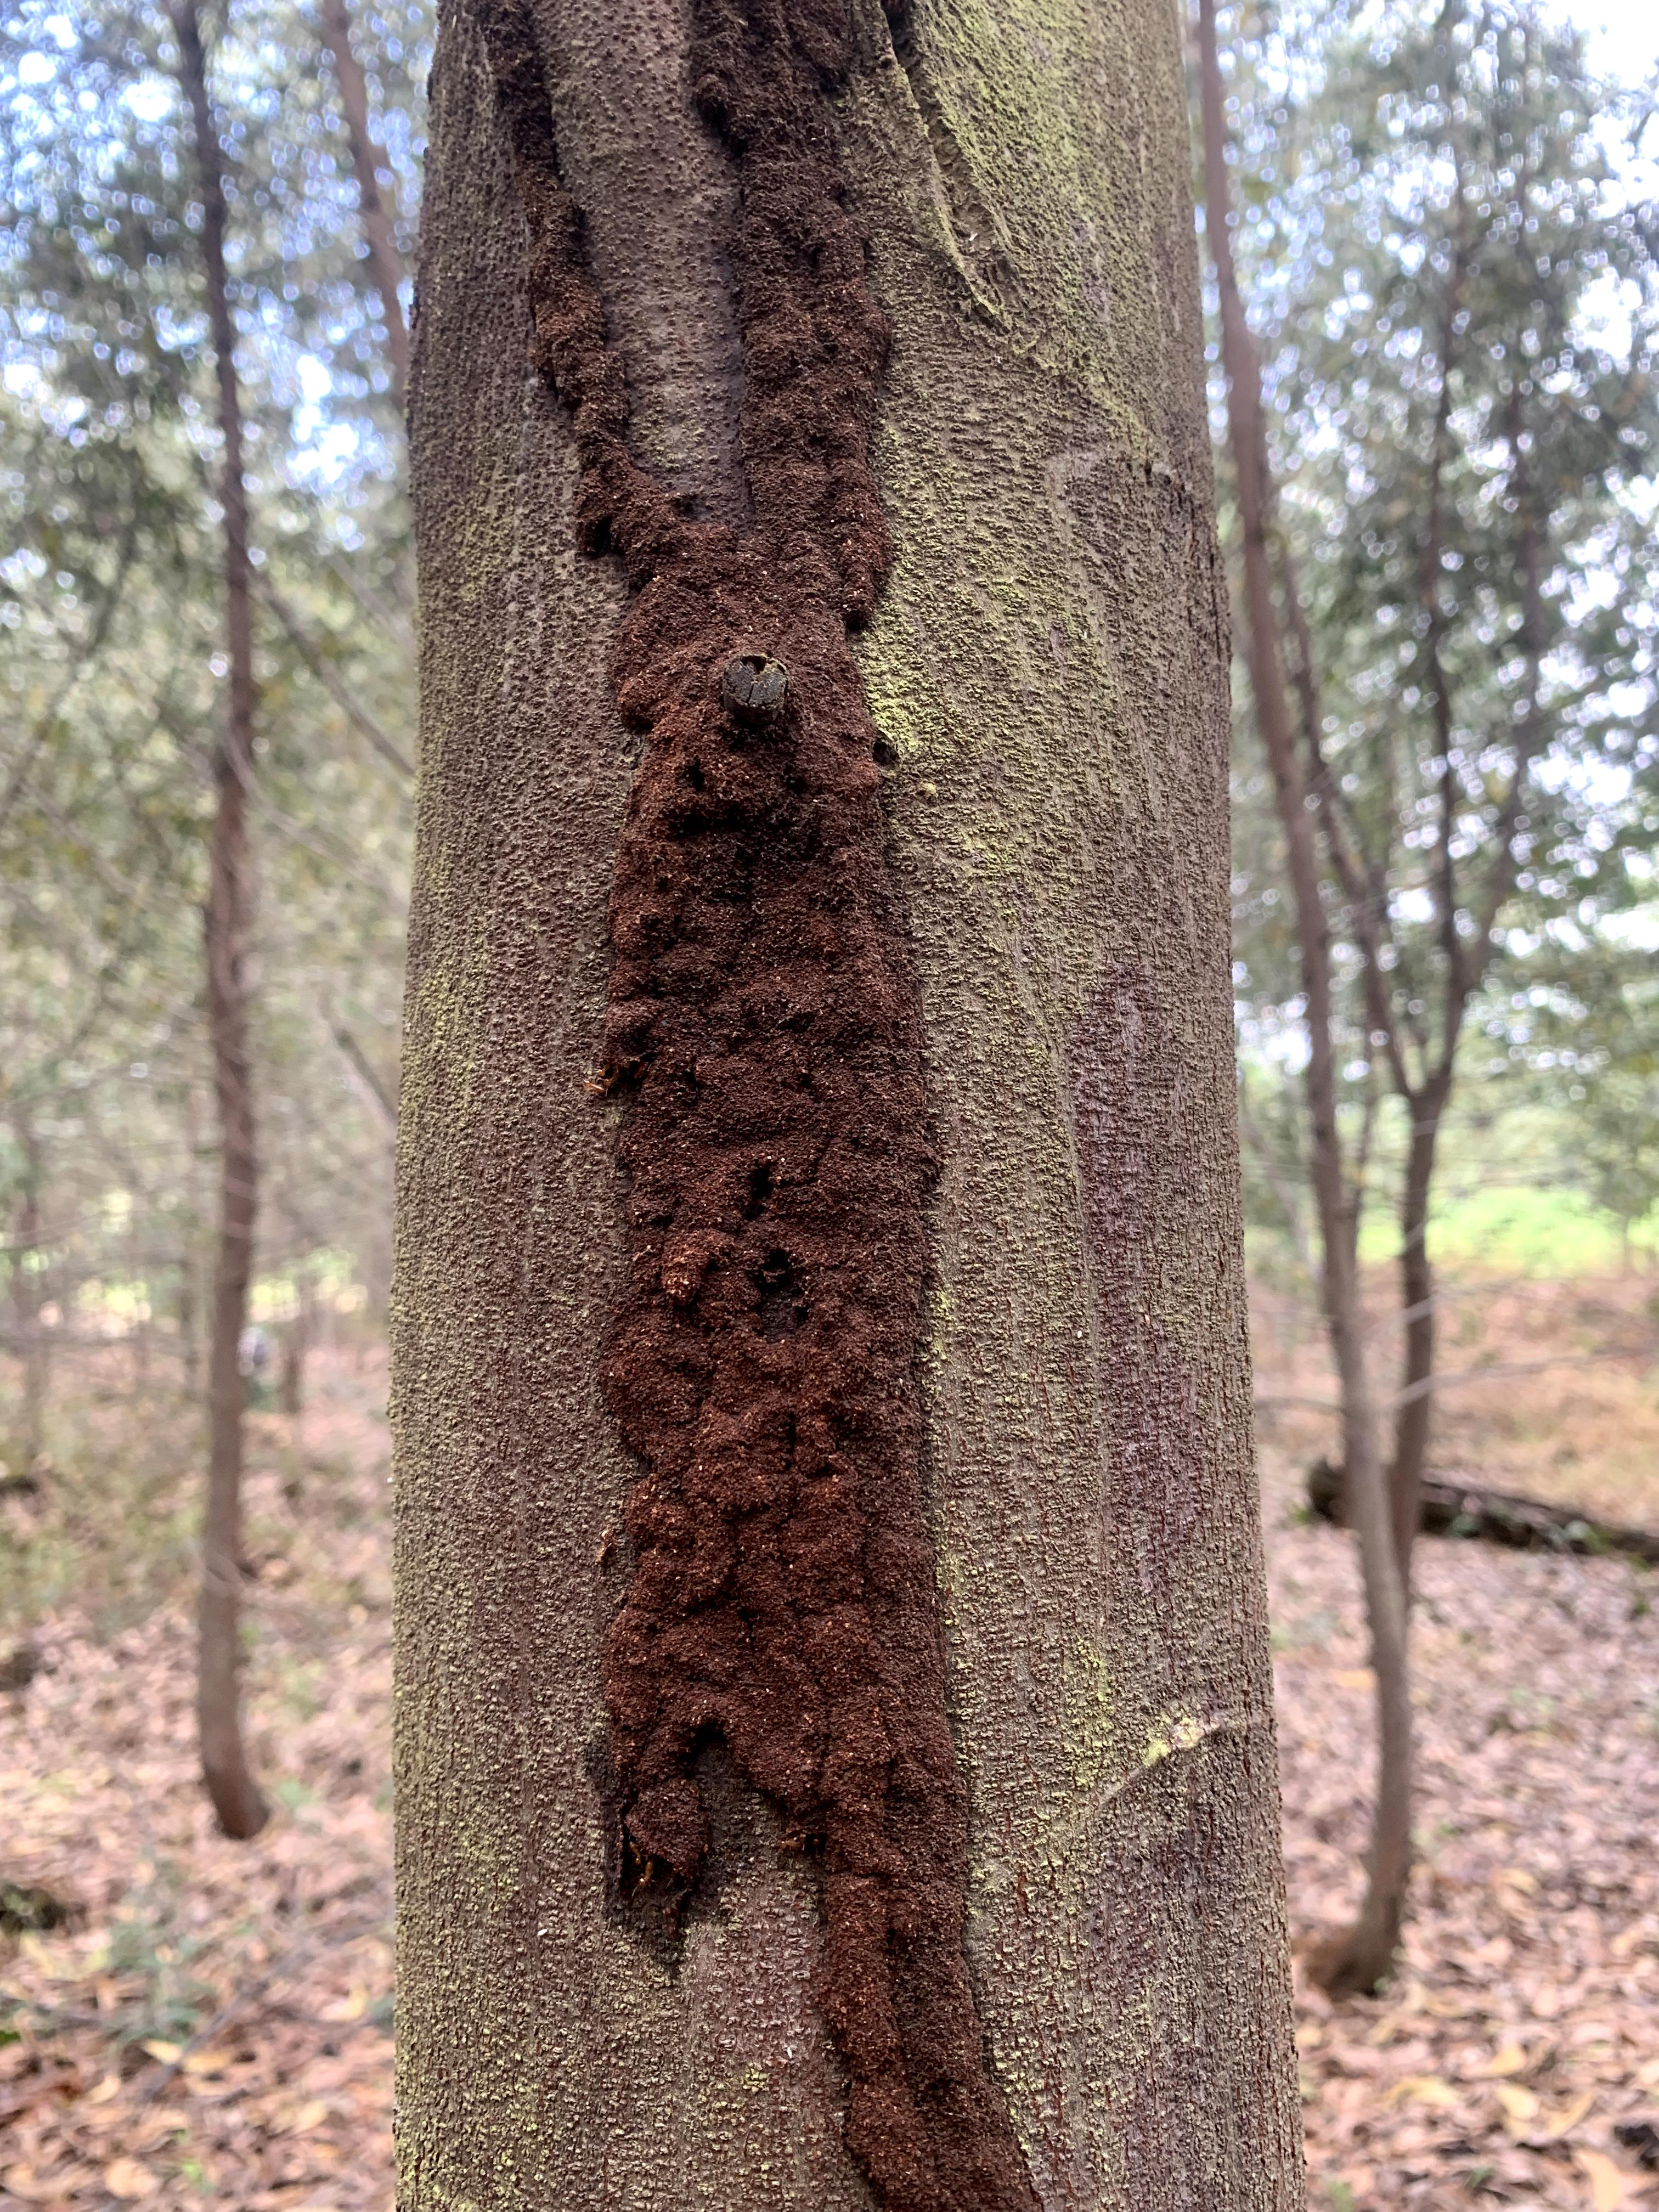Termite - Nest: (446, 2, 1082, 2212)
